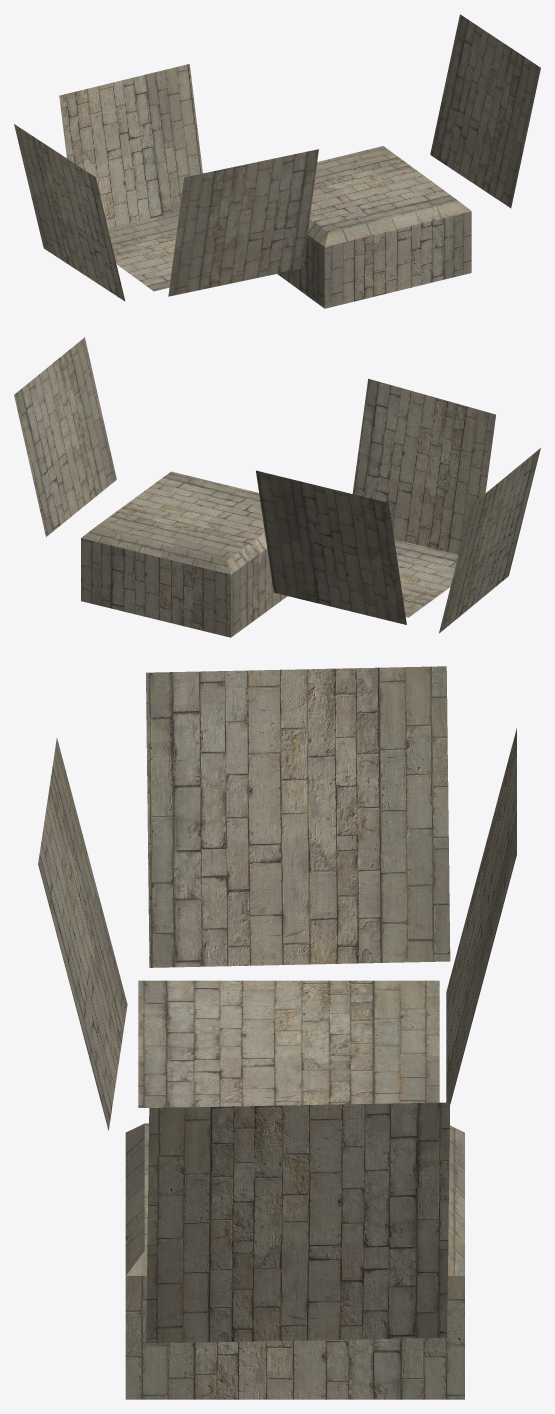
File: mattest.obj
3 renders of one model, top to bottom at view 1: azimuth 30°, elevation 25°; view 2: azimuth 150°, elevation 25°; view 3: azimuth 270°, elevation 25°, orthographic. The views are drawn at different scales.
Visible parts, largest first — view 1: Plane; view 2: Plane; view 3: Plane.
Part boxes in pixels (x1,y1,x2,y2): Plane: (14,14,540,308); Plane: (14,337,540,637); Plane: (38,666,516,1399).
Size of the model in its own units: 6.94 by 2.67 by 3.18.
Materials: 1 (1 with a texture image).
